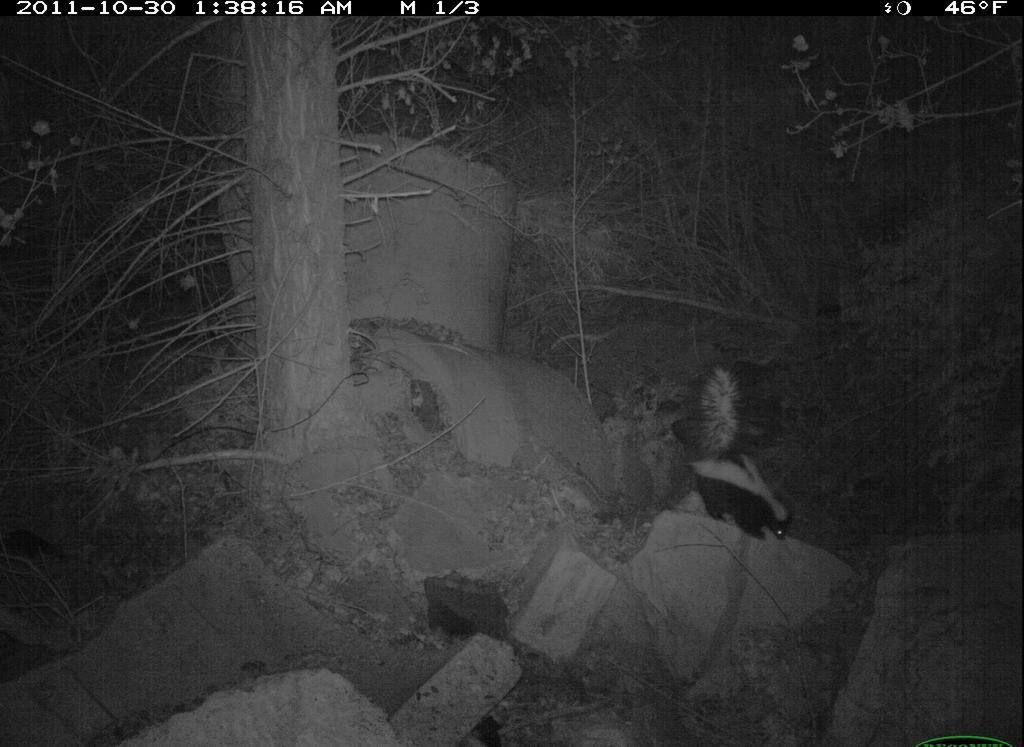skunk: (685, 365, 809, 546)
